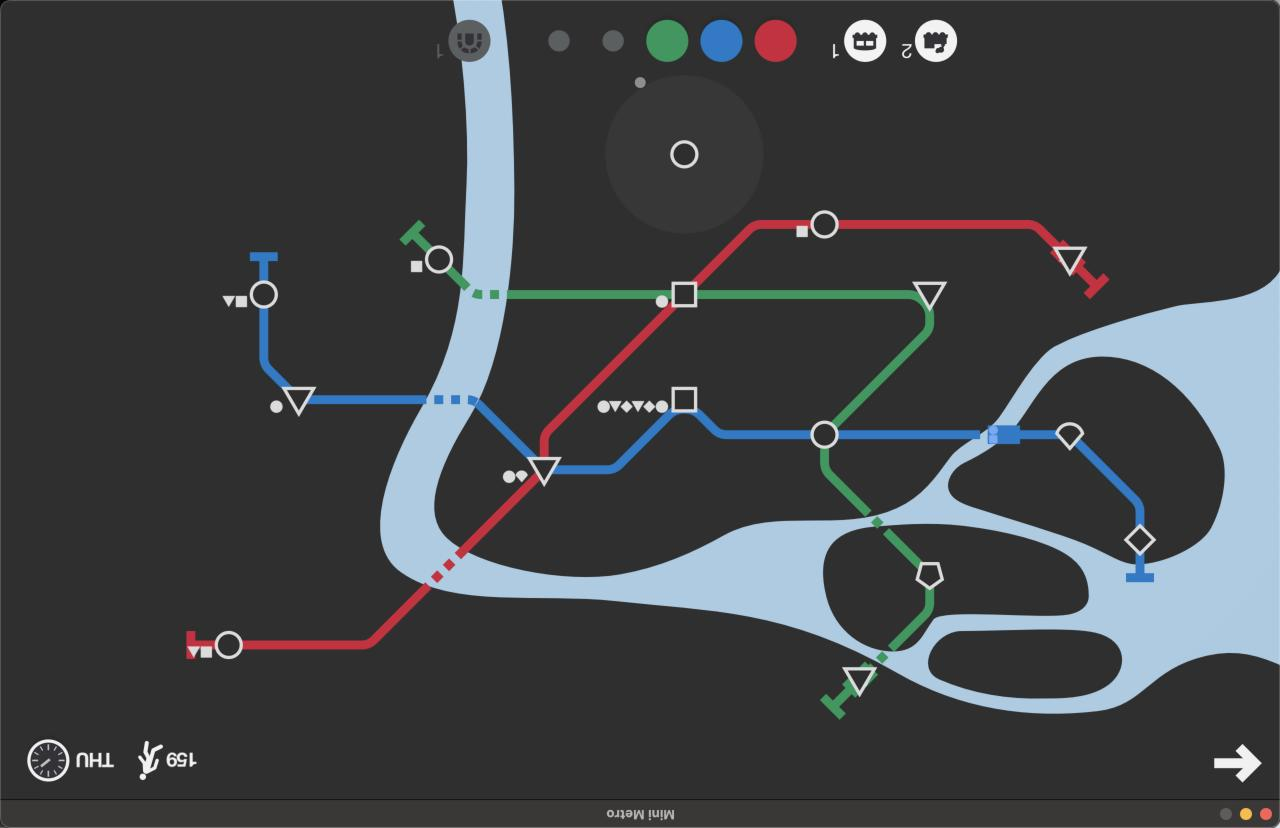BLUE LINE: (554, 409, 810, 474), (305, 394, 535, 456), (1076, 440, 1144, 530), (258, 311, 287, 389), (839, 430, 1055, 440), (251, 253, 278, 284), (1127, 556, 1154, 583)
DARK GREEN LINE: (697, 290, 934, 429), (818, 450, 922, 566), (446, 269, 670, 300), (867, 589, 934, 669), (819, 680, 856, 719), (398, 222, 429, 254)
RED LINE: (242, 473, 538, 651), (539, 304, 675, 456), (692, 219, 810, 285), (838, 220, 1062, 250), (1073, 263, 1109, 300), (186, 632, 212, 661)
